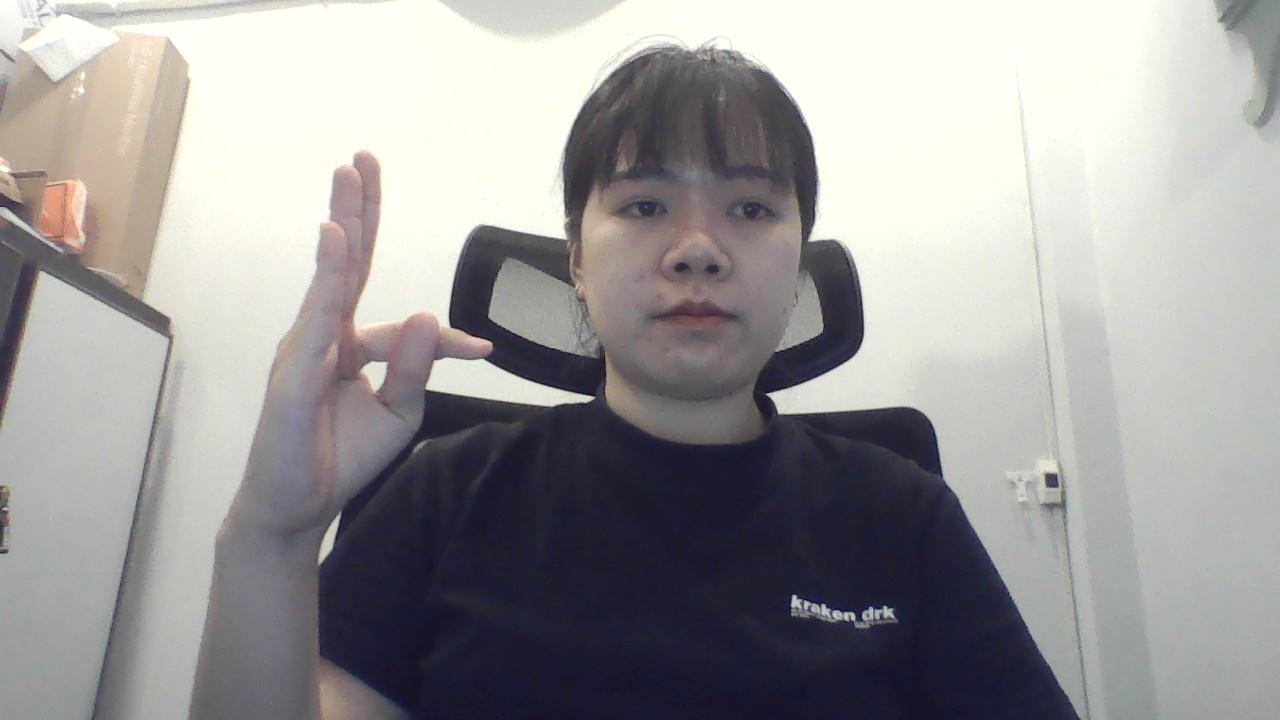T: (232, 130, 503, 578)
